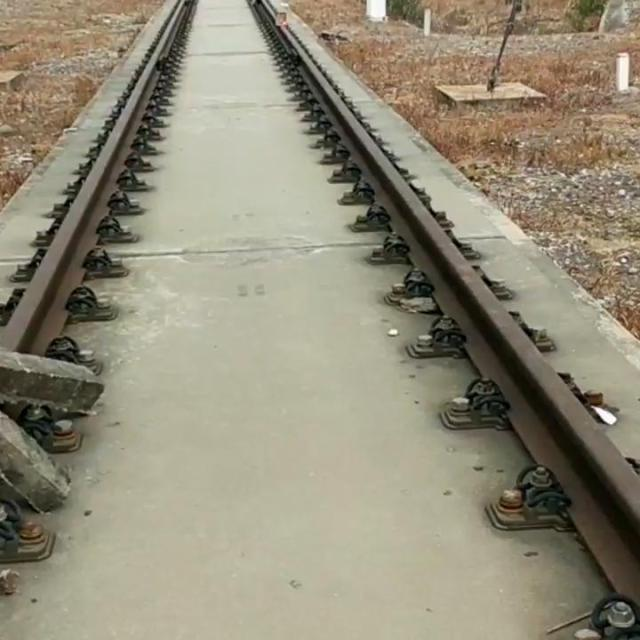danger: (0, 337, 116, 518)
rail: (253, 0, 640, 591), (2, 0, 190, 356)
